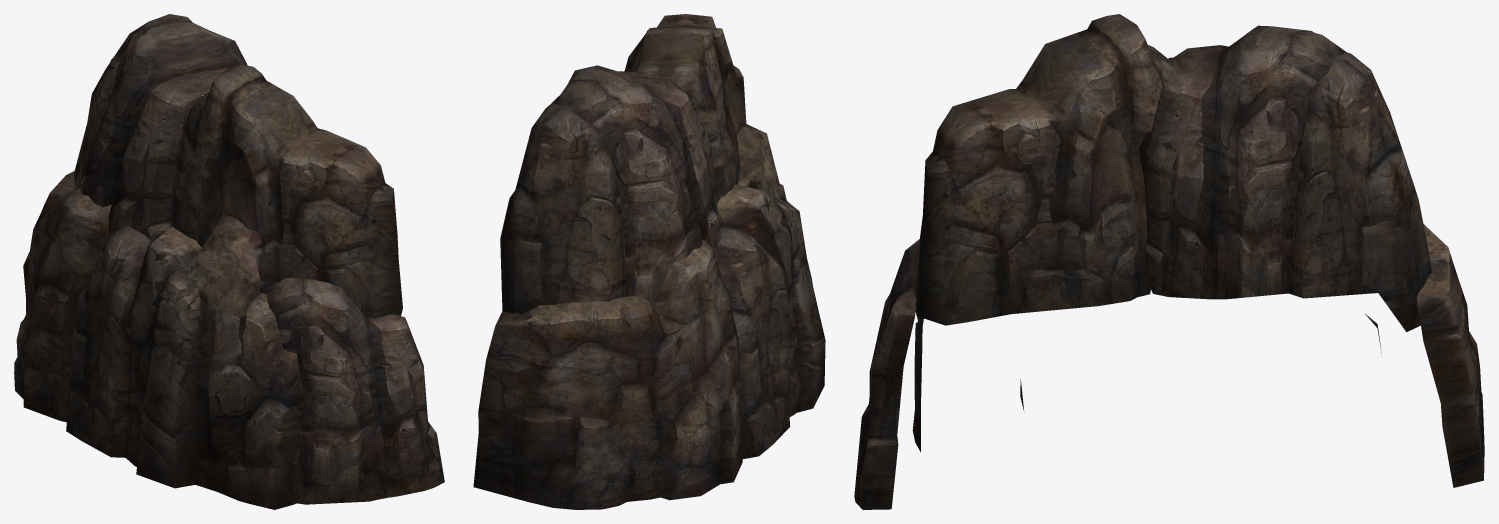
File: bal_env_cliff_02.glb
The picture shows the model from 3 angles, left to right: view 1: azimuth 30°, elevation 25°; view 2: azimuth 150°, elevation 25°; view 3: azimuth 270°, elevation 25°; orthographic projection. The views are drawn at different scales.
Visible parts, largest first — view 1: bal_env_cliff_02; view 2: bal_env_cliff_02; view 3: bal_env_cliff_02.
Part boxes in pixels (x1,y1,x2,y2): bal_env_cliff_02: (14, 14, 444, 509); bal_env_cliff_02: (473, 14, 825, 509); bal_env_cliff_02: (854, 14, 1484, 509).
Size of the model in its own units: 11.45 by 16.79 by 22.04.
Materials: 1 (1 with a texture image).
